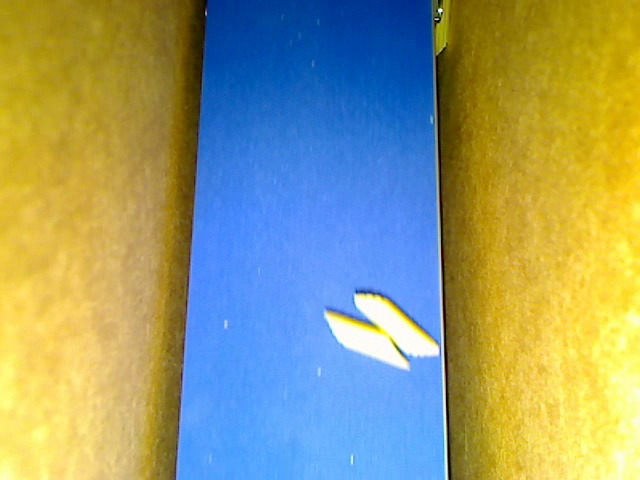penne: (354, 292, 439, 357), (320, 309, 411, 367), (427, 1, 449, 62)
